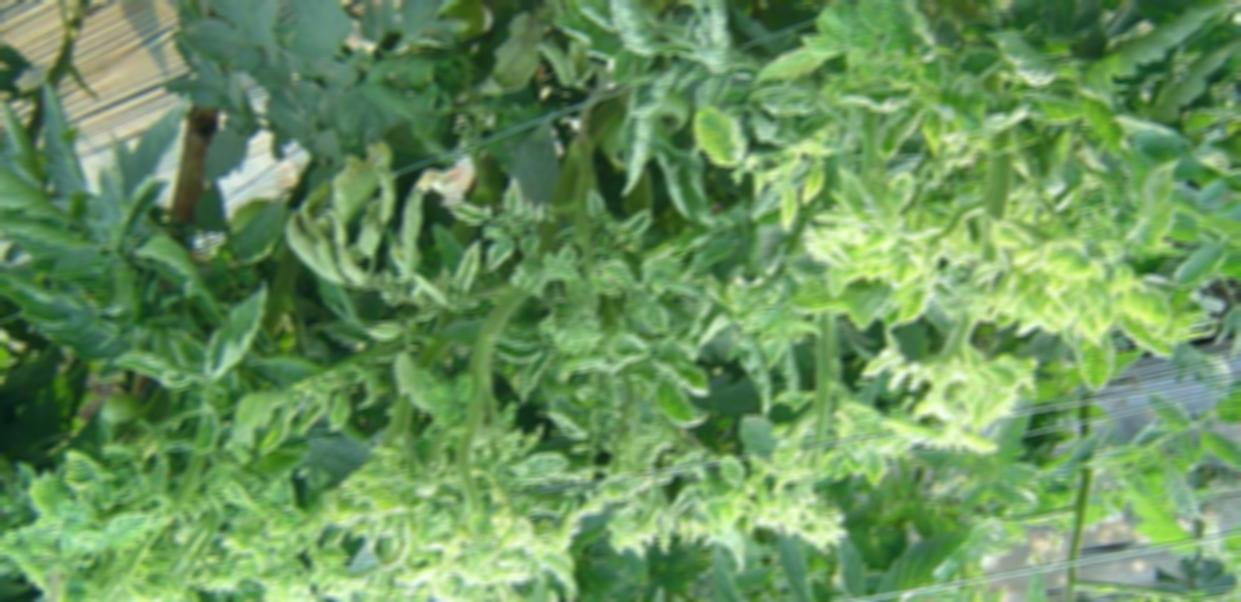Tomato leaf yellow virus: (386, 356, 483, 436), (203, 285, 269, 377), (846, 0, 939, 56), (691, 110, 745, 171), (839, 208, 883, 275), (645, 373, 701, 424), (1117, 278, 1163, 337), (54, 450, 130, 485), (1057, 251, 1090, 330), (475, 208, 515, 273), (597, 329, 655, 363), (908, 234, 943, 284), (597, 252, 642, 289), (618, 206, 652, 237), (589, 170, 604, 235), (556, 239, 578, 271), (525, 222, 544, 258), (992, 284, 1014, 311)
